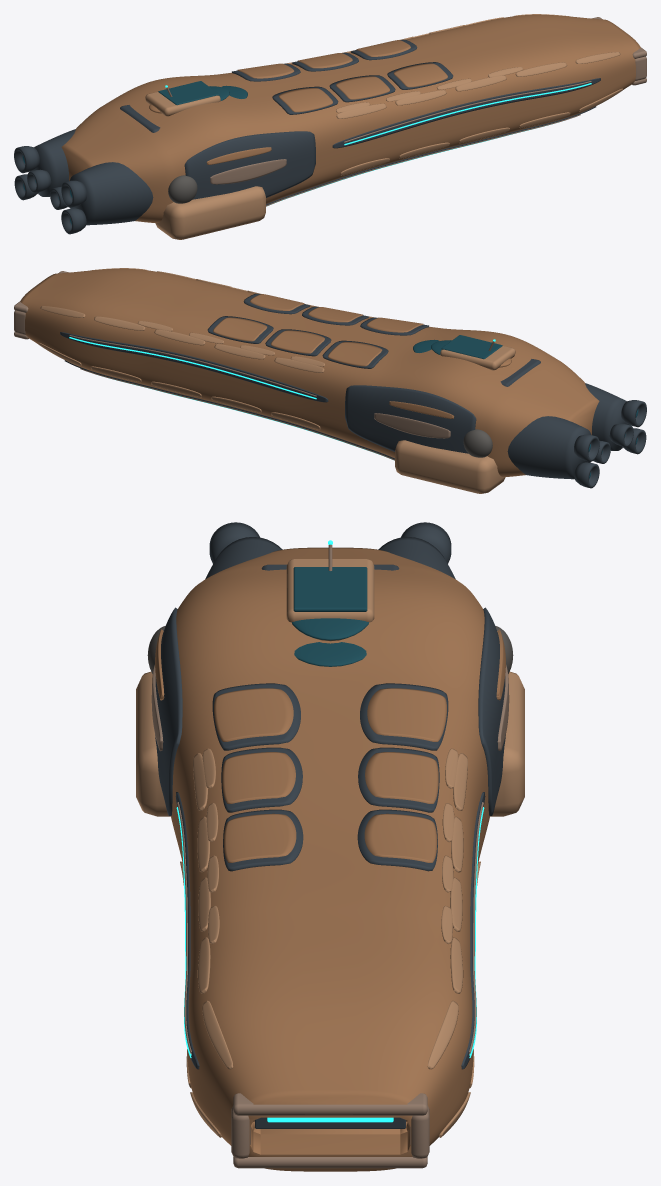
File: supply-repair.glb
3 views of the same model, one above another, from view 1: azimuth 30°, elevation 25°; view 2: azimuth 150°, elevation 25°; view 3: azimuth 270°, elevation 25° (orthographic). The views are drawn at different scales.
Visible parts, largest first — view 1: Continuous pressure hull, Folded crane bay, Silo / armored machinery shoulder, Aft propulsion / integrated nacelle, Upper data conduit / seated channel, Aft propulsion / integrated nacelle.001, Crane / secured stowed lower arm, Cargo transfer / shutter.001, Cargo transfer / shutter.005, Cargo transfer / shutter.003, Bridge / observation belt, Bridge / armored watch deck (+23 smaller); view 2: Continuous pressure hull, Folded crane bay.001, Silo / armored machinery shoulder.001, Aft propulsion / integrated nacelle.001, Upper data conduit / seated channel.001, Aft propulsion / integrated nacelle, Crane / secured stowed lower arm.001, Cargo transfer / shutter, Cargo transfer / shutter.004, Cargo transfer / shutter.002, Bridge / observation belt, Bridge / armored watch deck (+23 smaller); view 3: Continuous pressure hull, Cargo transfer / shutter, Cargo transfer / shutter.001, Folded crane bay, Folded crane bay.001, Bridge / observation belt, Cargo transfer / shutter.002, Cargo transfer / shutter.003, Cargo transfer / shutter.004, Cargo transfer / shutter.005, Silo / armored machinery shoulder, Silo / armored machinery shoulder.001 (+18 smaller).
Part boxes in pixels (x1,y1,x2,y2): Continuous pressure hull: (61, 14, 640, 223); Folded crane bay: (184, 131, 315, 199); Silo / armored machinery shoulder: (155, 186, 265, 239); Aft propulsion / integrated nacelle: (69, 162, 153, 225); Upper data conduit / seated channel: (332, 78, 600, 148); Aft propulsion / integrated nacelle.001: (30, 129, 75, 196); Crane / secured stowed lower arm: (210, 159, 286, 184); Cargo transfer / shutter.001: (278, 88, 332, 112); Cargo transfer / shutter.005: (393, 63, 447, 87); Cargo transfer / shutter.003: (336, 76, 389, 99); Bridge / observation belt: (158, 81, 219, 105); Bridge / armored watch deck: (145, 91, 220, 116); Continuous pressure hull: (20, 268, 599, 477); Folded crane bay.001: (345, 385, 476, 453); Silo / armored machinery shoulder.001: (395, 440, 505, 493); Aft propulsion / integrated nacelle.001: (507, 416, 591, 479); Upper data conduit / seated channel.001: (60, 332, 328, 402); Aft propulsion / integrated nacelle: (585, 383, 630, 450); Crane / secured stowed lower arm.001: (374, 413, 450, 438); Cargo transfer / shutter: (328, 342, 382, 366); Cargo transfer / shutter.004: (213, 317, 267, 341); Cargo transfer / shutter.002: (271, 330, 324, 353); Bridge / observation belt: (441, 335, 502, 359); Bridge / armored watch deck: (440, 345, 515, 370); Continuous pressure hull: (171, 547, 489, 1171); Cargo transfer / shutter: (367, 688, 446, 741); Cargo transfer / shutter.001: (214, 688, 293, 741); Folded crane bay: (155, 607, 182, 815); Folded crane bay.001: (478, 607, 505, 815); Bridge / observation belt: (293, 567, 367, 611); Cargo transfer / shutter.002: (365, 752, 438, 803); Cargo transfer / shutter.003: (222, 752, 295, 803); Cargo transfer / shutter.004: (364, 813, 437, 862); Cargo transfer / shutter.005: (223, 813, 296, 862); Silo / armored machinery shoulder: (136, 671, 170, 816); Silo / armored machinery shoulder.001: (490, 671, 524, 816).
Size of the model in its own units: 800 by 159 by 232.
